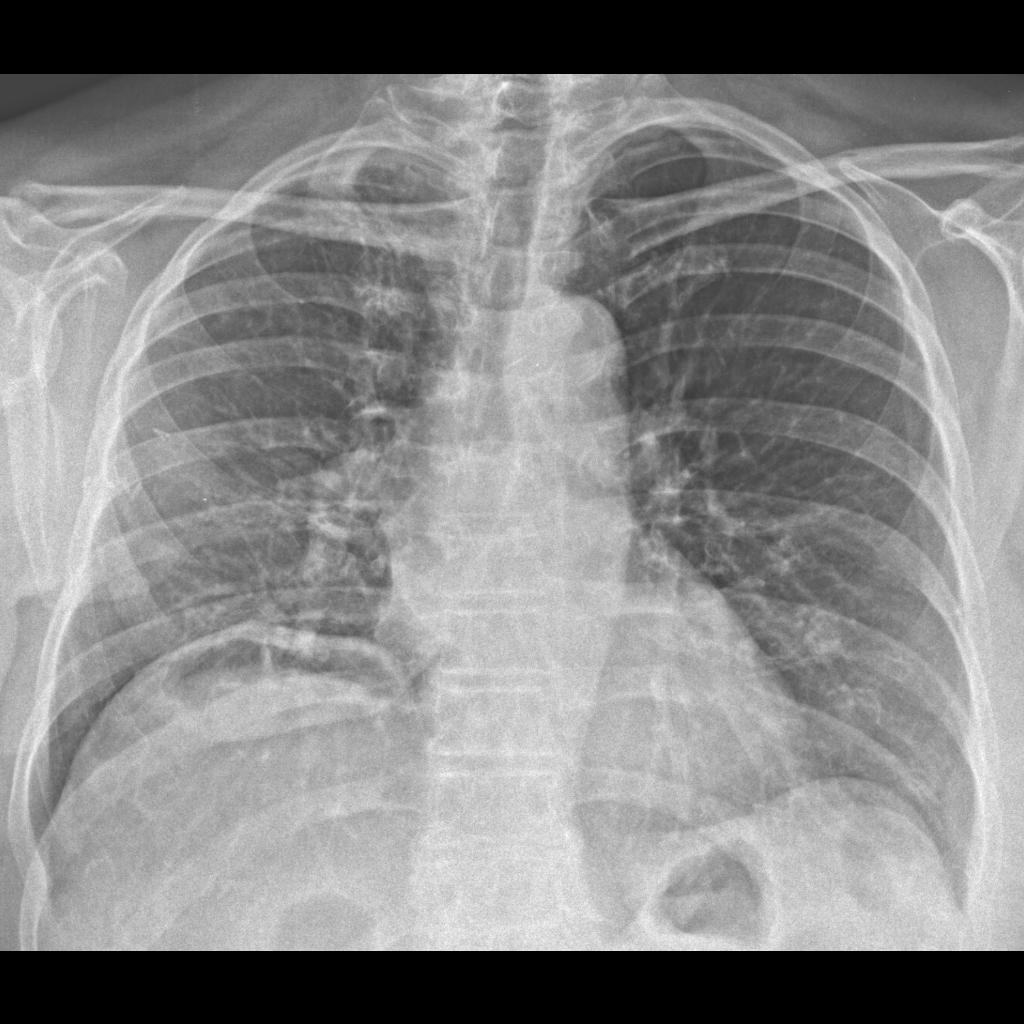Nodule: (799, 609, 854, 667)
